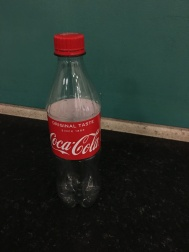bottle_red: (34, 22, 116, 215)
